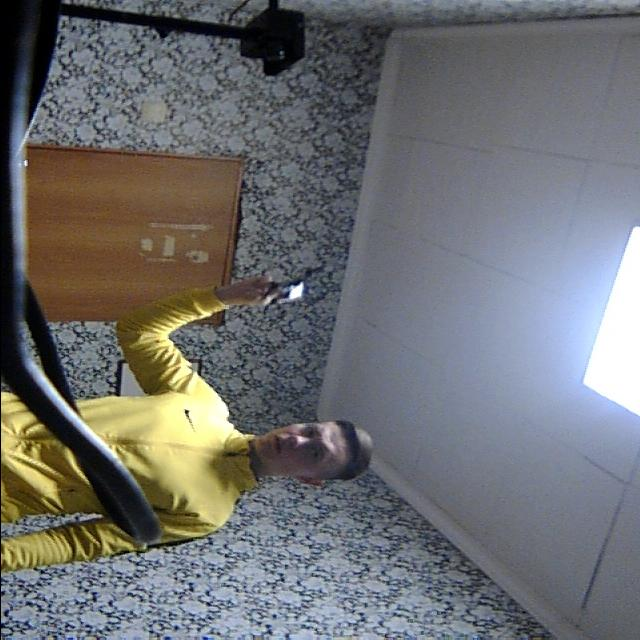drone: (246, 258, 349, 332)
